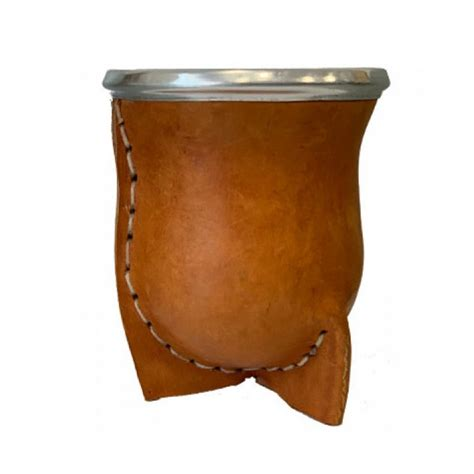cuero: (102, 94, 383, 424)
